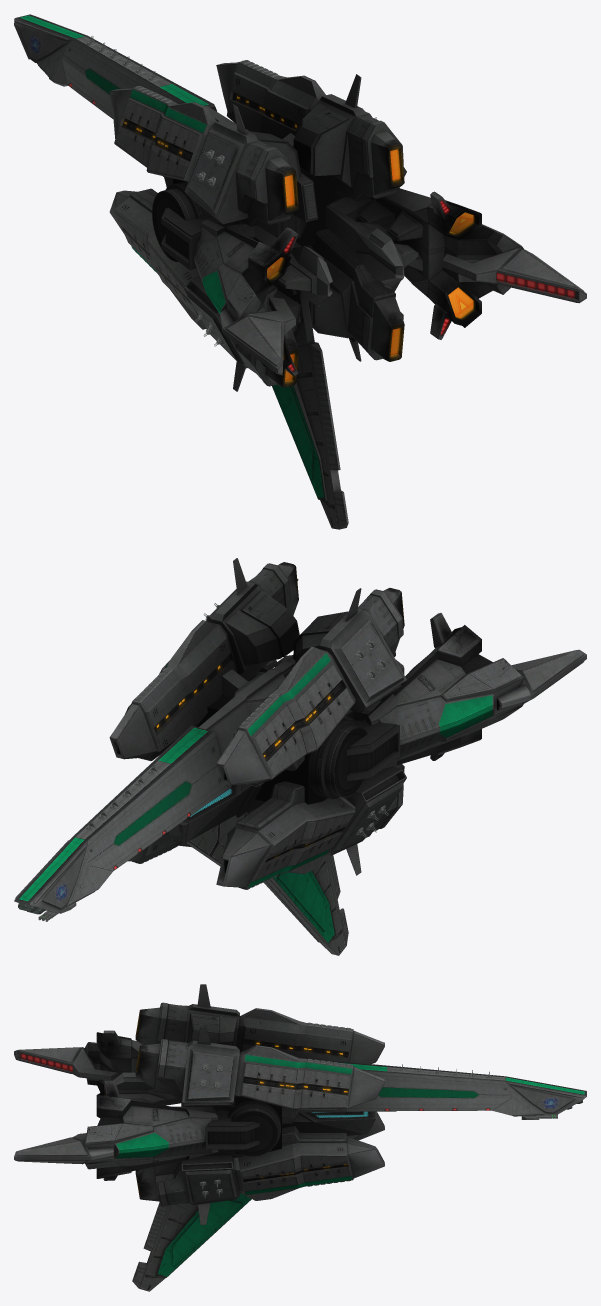
The model's file is battleship_x02.glb.
The picture shows the model from 3 angles, top to bottom: view 1: azimuth 30°, elevation 25°; view 2: azimuth 150°, elevation 25°; view 3: azimuth 270°, elevation 25°; orthographic projection. The views are drawn at different scales.
Parts seen in each view (by area): view 1: detail0, barrier; view 2: detail0, barrier, mounts; view 3: detail0.
Part boxes in pixels (bbox=[...]): detail0: bbox=[14, 14, 586, 529]; barrier: bbox=[173, 166, 337, 246]; detail0: bbox=[14, 558, 586, 955]; barrier: bbox=[198, 695, 327, 804]; mounts: bbox=[86, 640, 385, 835]; detail0: bbox=[14, 984, 586, 1291].
Size of the model in its own units: 0.995 by 1.26 by 2.29.
Materials: 5 (3 with a texture image).
